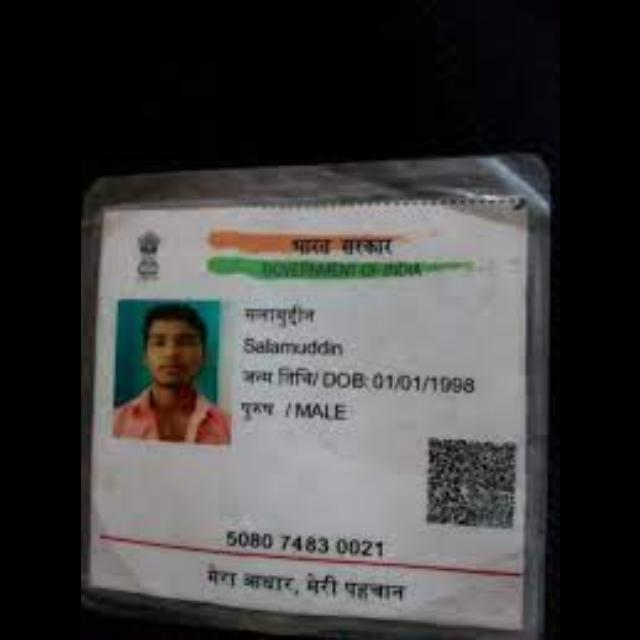aadhaar: (81, 194, 533, 636)
